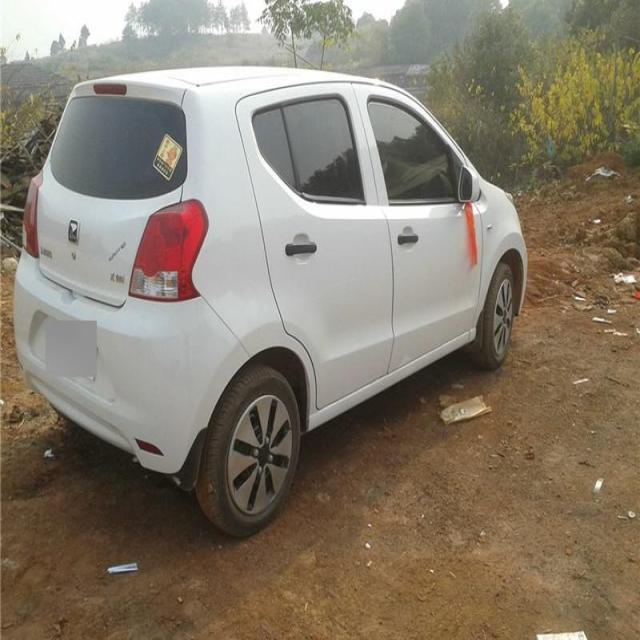back_glass: (50, 94, 188, 203)
back_left_side_light: (21, 166, 47, 260)
back_right_side_light: (128, 197, 211, 306)
door: (234, 97, 396, 393)
front_right_side_door: (350, 79, 484, 377)
front_right_side_mirror: (458, 162, 480, 206)
rear_bumper: (13, 248, 252, 476)
wheel: (194, 368, 300, 537), (470, 262, 516, 362)
